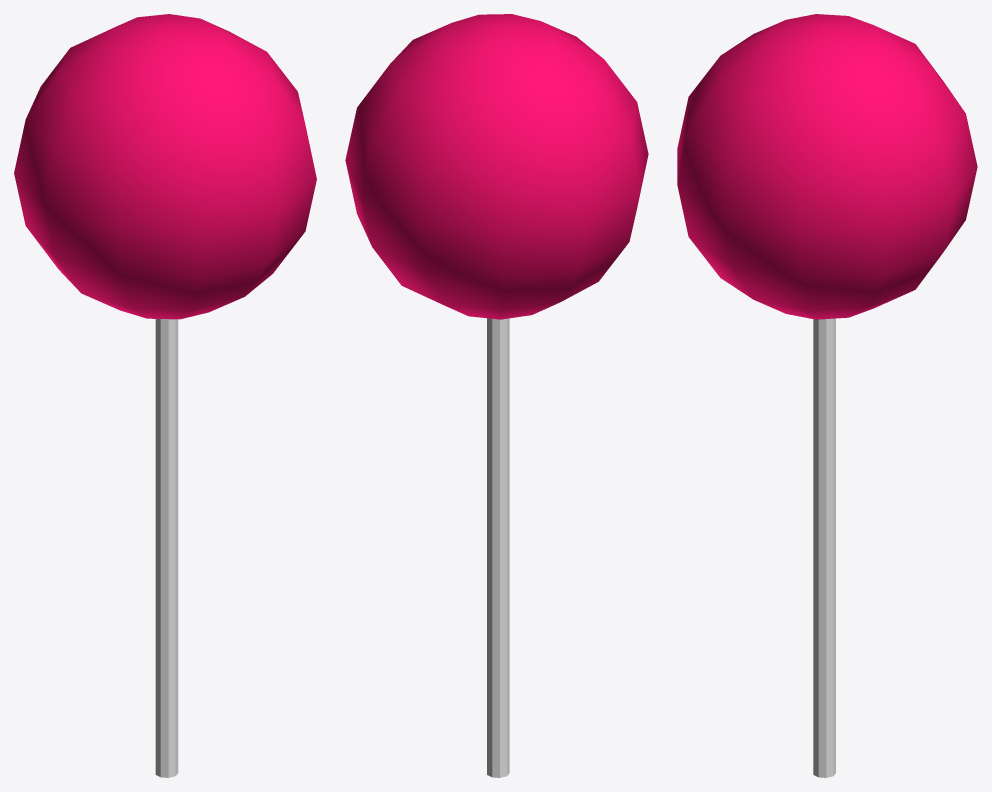
Rendered from 14_HotpinkLolly.fbx.
3 views of the same model, side by side, from view 1: azimuth 30°, elevation 25°; view 2: azimuth 150°, elevation 25°; view 3: azimuth 270°, elevation 25° (orthographic).
Parts seen in each view (by area): view 1: Sphere.057, Cylinder.056; view 2: Sphere.057, Cylinder.056; view 3: Sphere.057, Cylinder.056.
Part boxes in pixels (<box>): Sphere.057: <box>14,14,316,319</box>; Cylinder.056: <box>155,319,178,777</box>; Sphere.057: <box>345,14,648,319</box>; Cylinder.056: <box>487,318,509,777</box>; Sphere.057: <box>677,14,977,319</box>; Cylinder.056: <box>813,318,835,777</box>.
Bounding box in the file's own units: 127 × 345 × 126.
